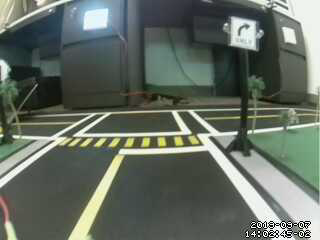Right_only_sign: (231, 17, 261, 51)
